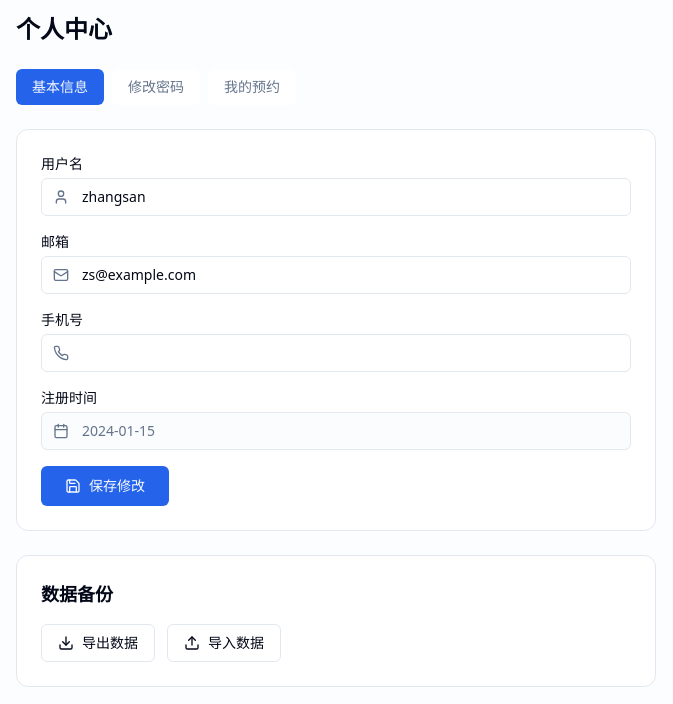
Test: Profile Page › switches to password tab
Click the button "修改密码" at coordinates (156, 87), box [112,69,200,105]
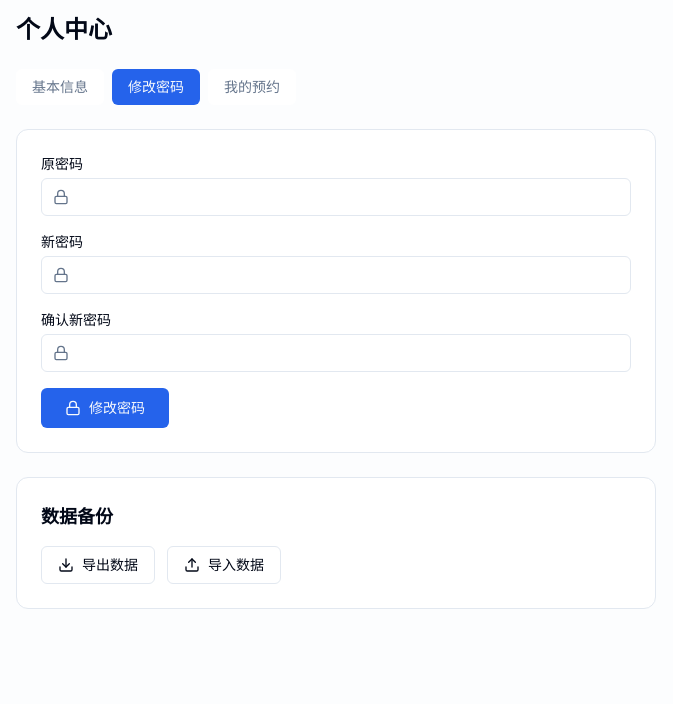
Result: the password field labelled "原密码" is shown at [41,178,631,216]
Result: the password field labelled "新密码" is shown at [41,256,631,294]
Result: the password field labelled "确认新密码" is shown at [41,334,631,372]
